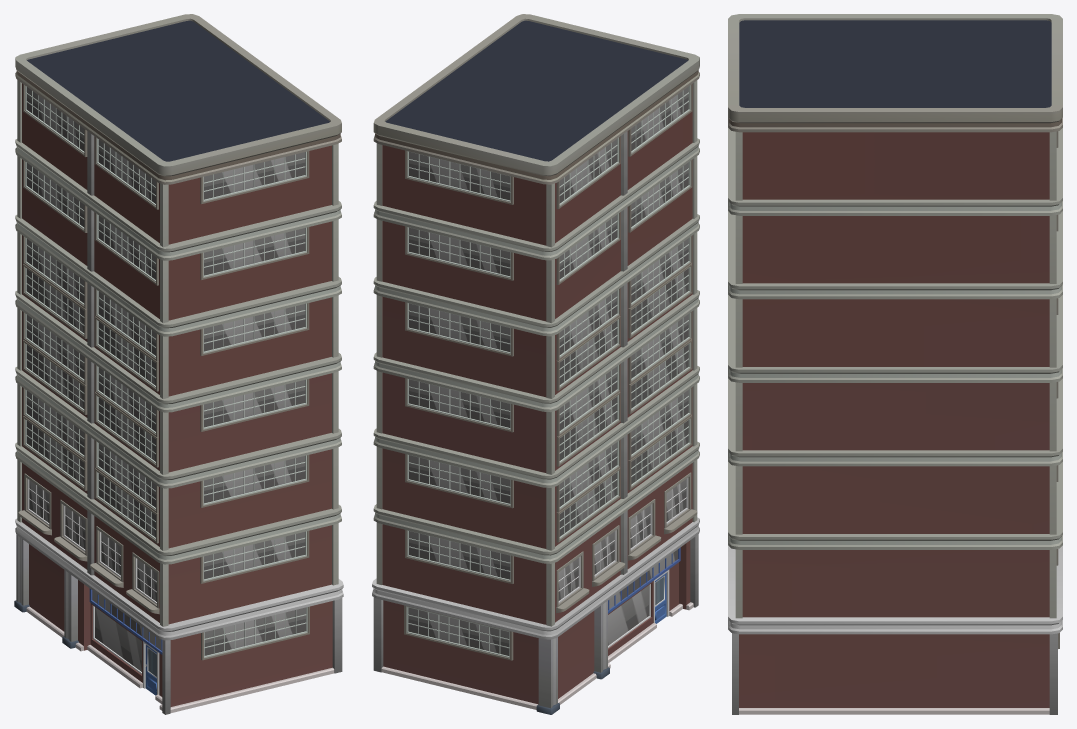
The model's file is Building_11_5_I.fbx.
3 views of the same model, side by side, from view 1: azimuth 30°, elevation 25°; view 2: azimuth 150°, elevation 25°; view 3: azimuth 270°, elevation 25° (orthographic). The views are drawn at different scales.
Visible parts, largest first — view 1: Building_11_5_I; view 2: Building_11_5_I; view 3: Building_11_5_I.
Boxes of the visible parts, bbox=[...] form: Building_11_5_I: bbox=[14, 14, 343, 714]; Building_11_5_I: bbox=[372, 14, 699, 714]; Building_11_5_I: bbox=[728, 14, 1062, 714].
Bounding box in the file's own units: 827 × 2314 × 1163.
